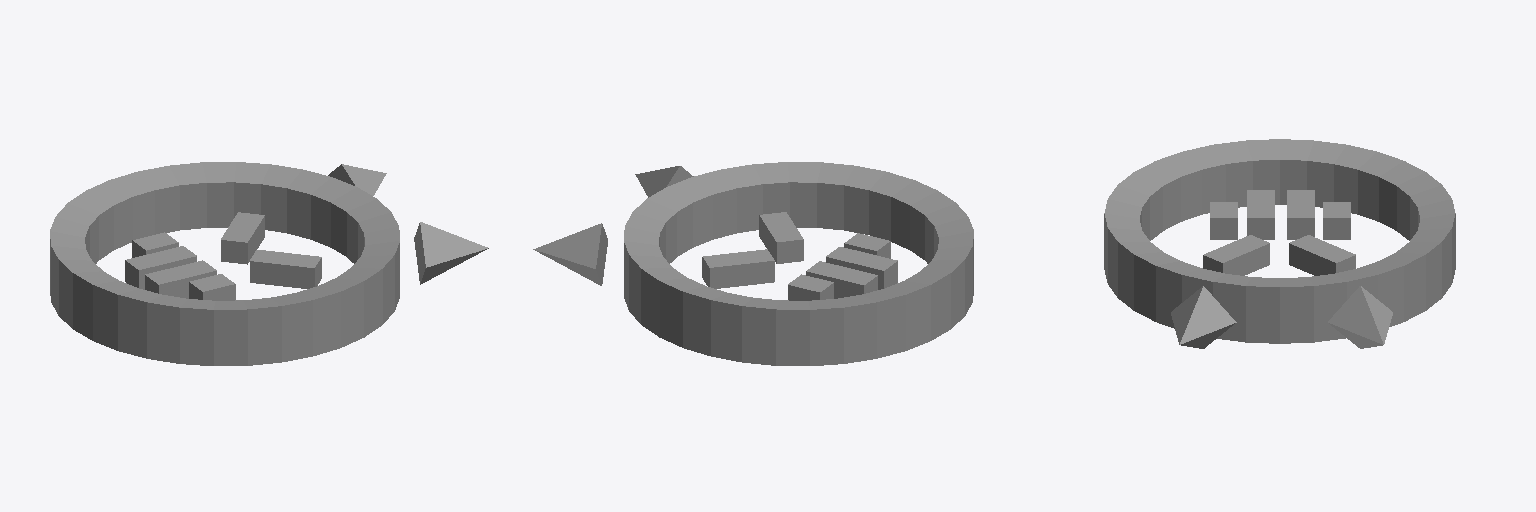
File: ring.obj
3 views of the same model, side by side, from view 1: azimuth 30°, elevation 25°; view 2: azimuth 150°, elevation 25°; view 3: azimuth 270°, elevation 25° (orthographic).
Parts seen in each view (by area): view 1: Cube; view 2: Cube; view 3: Cube.
Part boxes in pixels (left/top/right/bottom): Cube: left=50, top=162, right=488, bottom=365; Cube: left=533, top=162, right=973, bottom=365; Cube: left=1104, top=139, right=1455, bottom=348.
Size of the model in its own units: 1.2 by 0.2 by 0.9992.